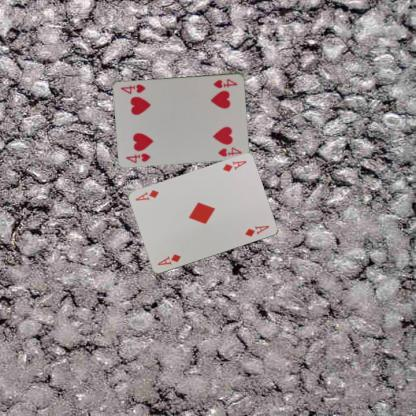4h: (211, 76, 239, 90), (124, 150, 151, 164)
Ad: (220, 158, 247, 174), (155, 252, 182, 267)
